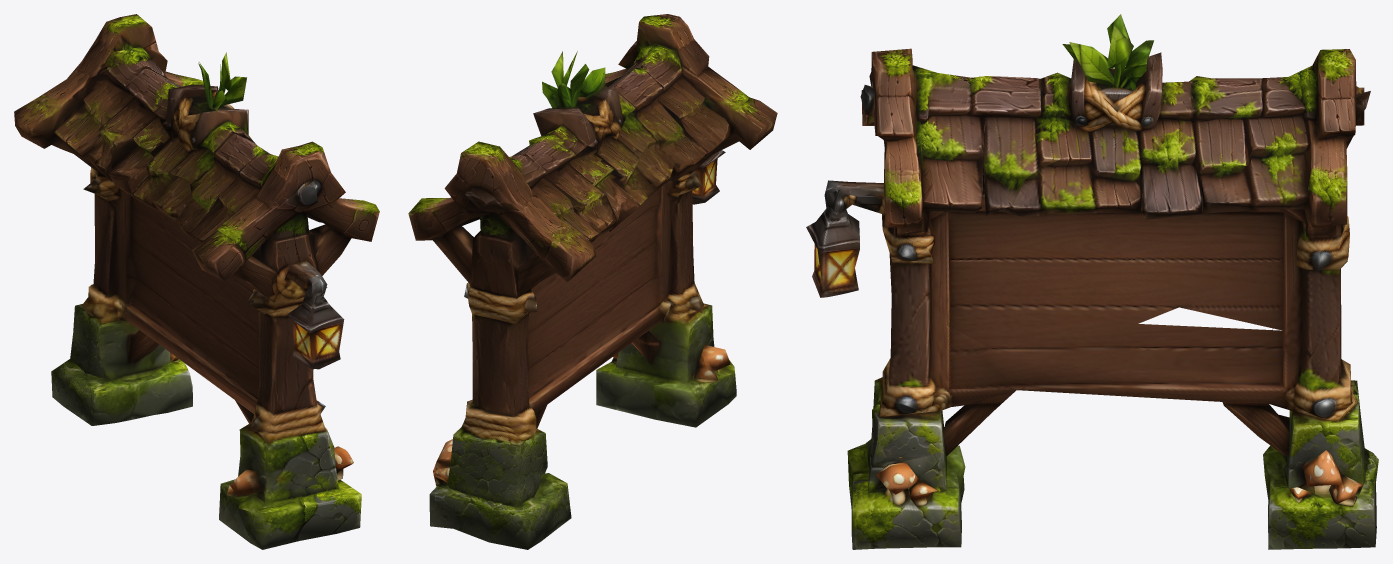
File: Kit_W_JobBoard_raw.glb
The picture shows the model from 3 angles, left to right: view 1: azimuth 30°, elevation 25°; view 2: azimuth 150°, elevation 25°; view 3: azimuth 270°, elevation 25°; orthographic projection. The views are drawn at different scales.
Parts seen in each view (by area): view 1: tripo_node_865feb4b-b2d9-4512-aa4e-9af19867356f; view 2: tripo_node_865feb4b-b2d9-4512-aa4e-9af19867356f; view 3: tripo_node_865feb4b-b2d9-4512-aa4e-9af19867356f.
Boxes of the visible parts, x1,y1,x2,y2 form: tripo_node_865feb4b-b2d9-4512-aa4e-9af19867356f: [14, 14, 379, 549]; tripo_node_865feb4b-b2d9-4512-aa4e-9af19867356f: [408, 14, 777, 549]; tripo_node_865feb4b-b2d9-4512-aa4e-9af19867356f: [806, 14, 1378, 549].
Size of the model in its own units: 0.461 by 0.9808 by 1.
1 material, 1 textured.
